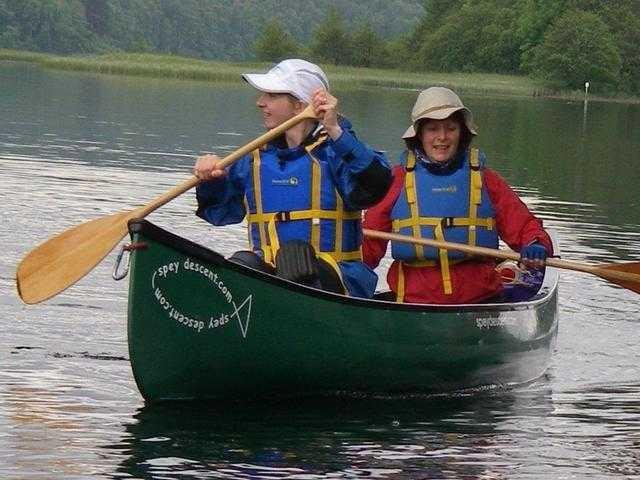kayak: (126, 208, 559, 402), (547, 258, 639, 295)
